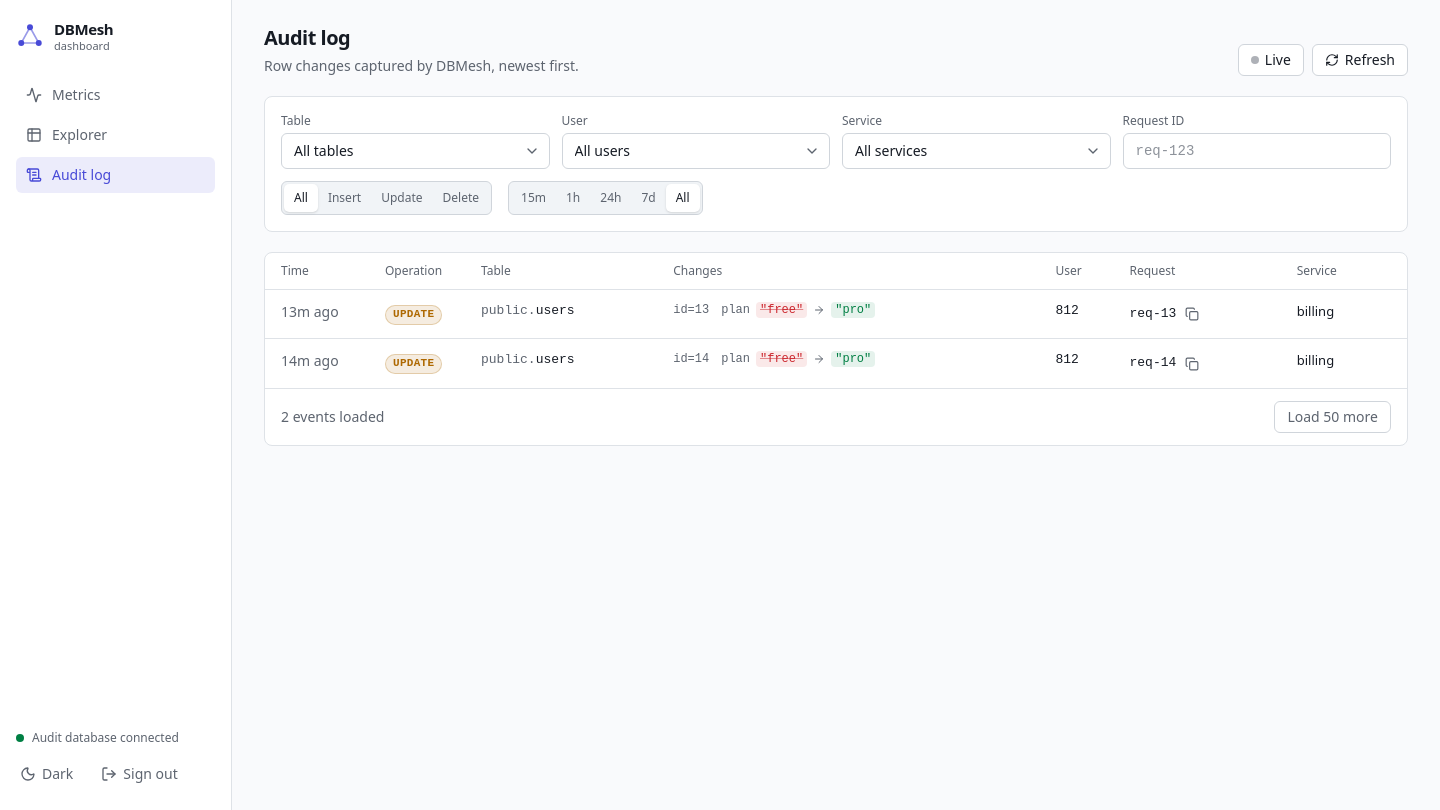
Test: audit log › loads more pages with the cursor
Check: the text "2 events loaded" is shown, box x1=281 y1=407 x2=384 y2=427
What coordinates should you click on to do the following:
click the button "Load 50 more"
I would click on:
 (1333, 417)
Its box is x1=1274 y1=401 x2=1391 y2=433.
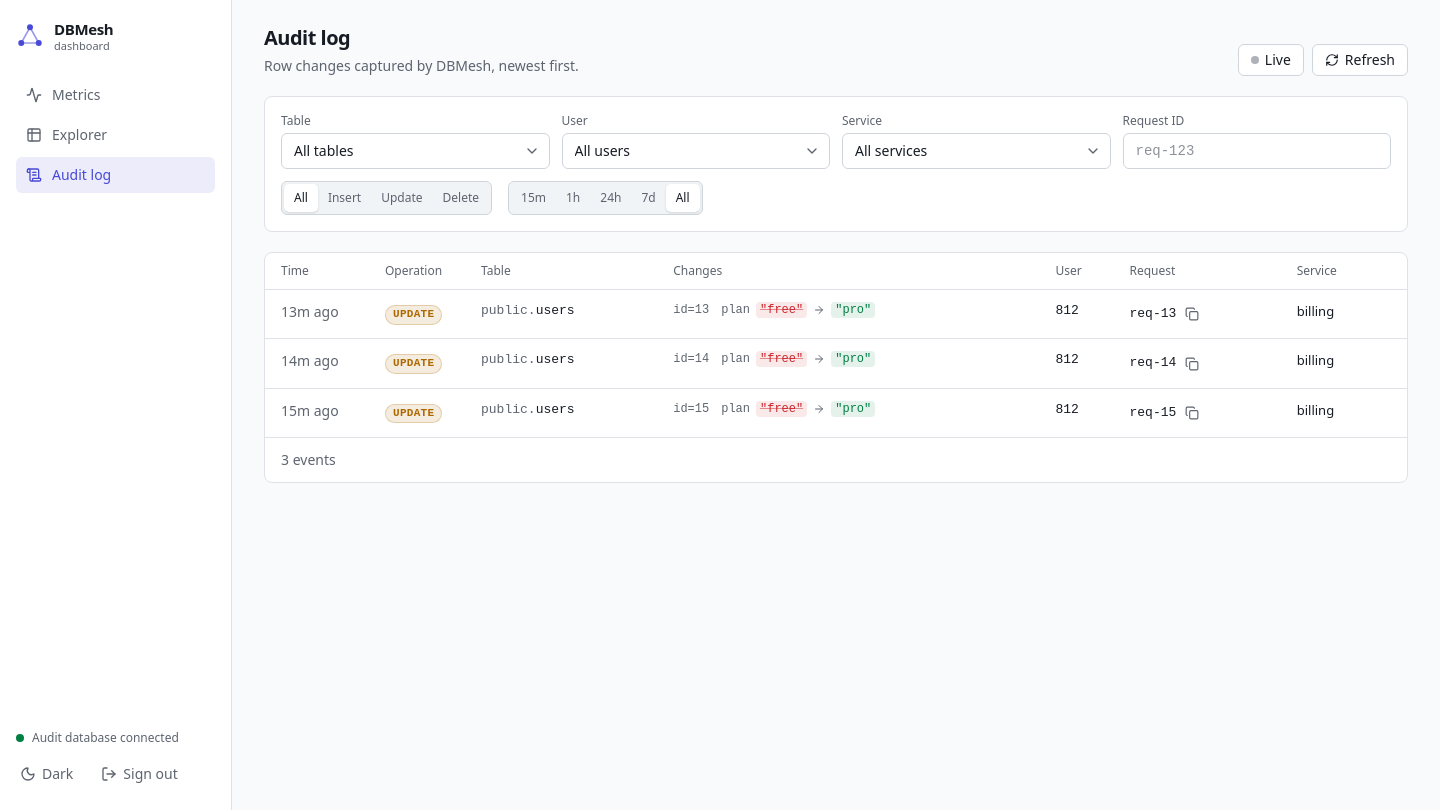
Check: the text "3 events" is shown, box x1=281 y1=450 x2=336 y2=470
Check: the button "Load 50 more" is gone
